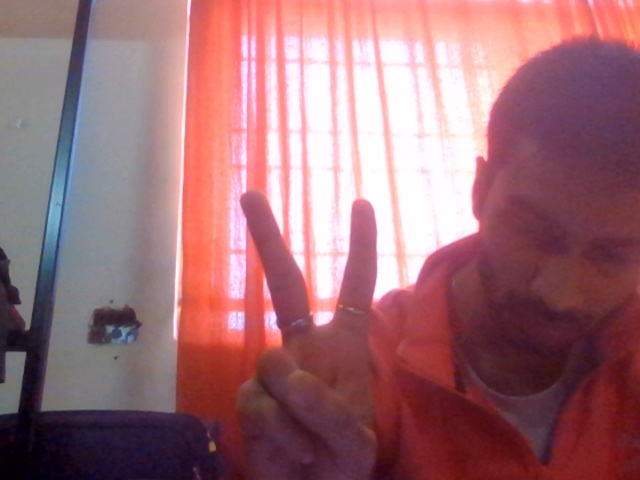V: (186, 163, 454, 480)
